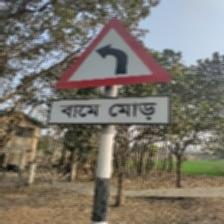Left-Turn: (51, 17, 175, 126)
